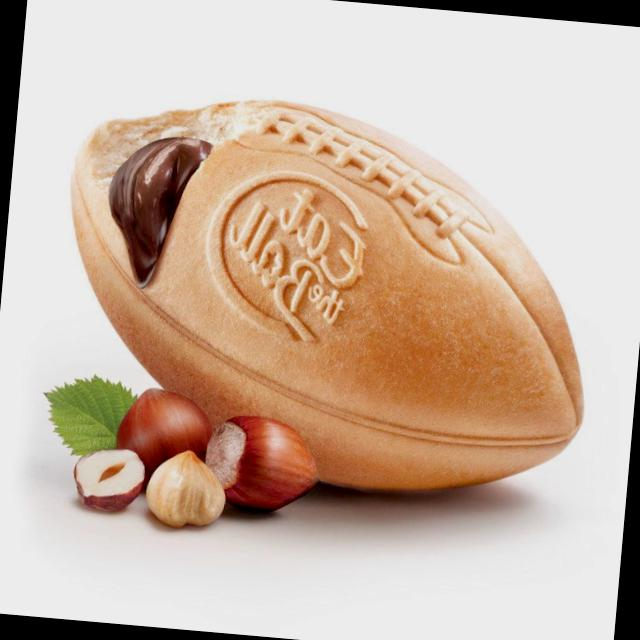ball: (22, 86, 616, 405)
